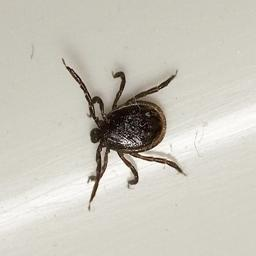Ixodes scapularis: (61, 59, 186, 212)
